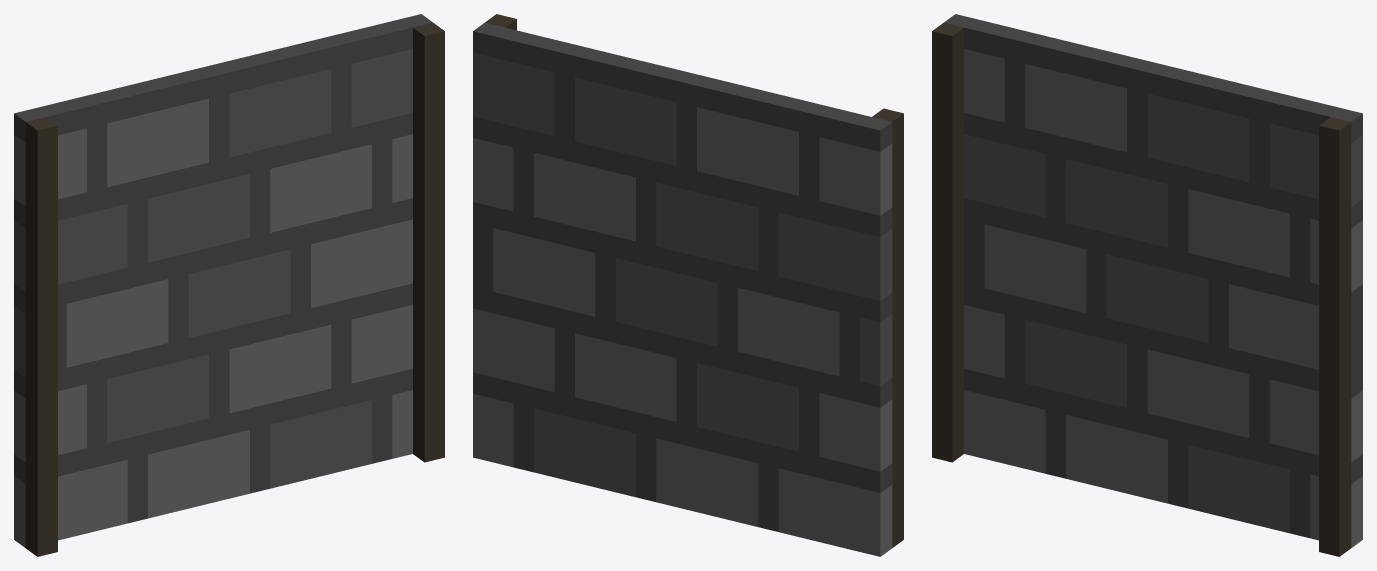
Rendered from foundation_flat.gltf.
The picture shows the model from 3 angles, left to right: view 1: azimuth 30°, elevation 25°; view 2: azimuth 150°, elevation 25°; view 3: azimuth 330°, elevation 25°; orthographic projection.
Parts seen in each view (by area): view 1: foundation_flat; view 2: foundation_flat; view 3: foundation_flat.
Part boxes in pixels (x1,y1,x2,y2): foundation_flat: (14, 14, 444, 556); foundation_flat: (473, 14, 903, 556); foundation_flat: (932, 14, 1362, 556).
Size of the model in its own units: 2 by 2 by 0.2.
Materials: 1 (1 with a texture image).
